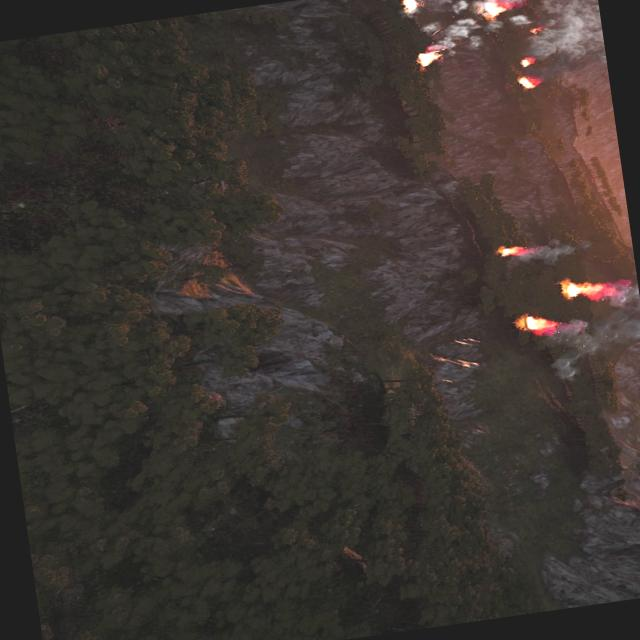fire: (559, 275, 614, 304), (516, 311, 556, 338), (478, 0, 511, 21), (415, 48, 440, 68), (496, 244, 526, 260), (518, 74, 540, 90), (518, 58, 535, 70), (401, 0, 417, 12), (529, 26, 545, 34)
smoke: (404, 0, 606, 82), (542, 282, 640, 386), (525, 239, 588, 265)
